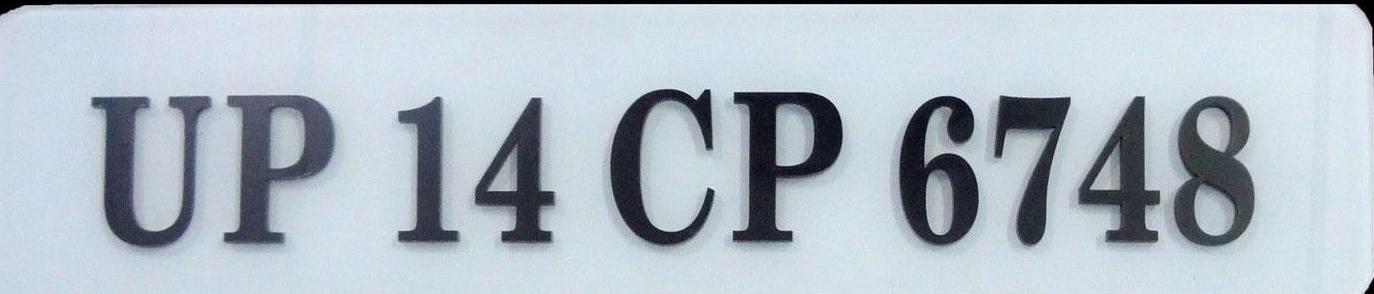1: (395, 95, 467, 245)
4: (472, 93, 566, 247), (1076, 94, 1169, 244)
6: (897, 94, 982, 247)
7: (991, 93, 1074, 251)
8: (1172, 92, 1256, 247)
C: (601, 84, 721, 247)
P: (731, 90, 846, 253), (220, 93, 337, 247)
U: (87, 92, 215, 250)
